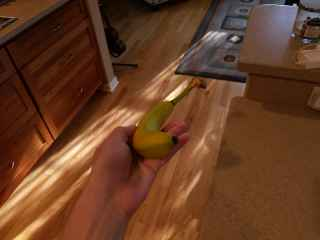banana: (130, 77, 207, 162)
